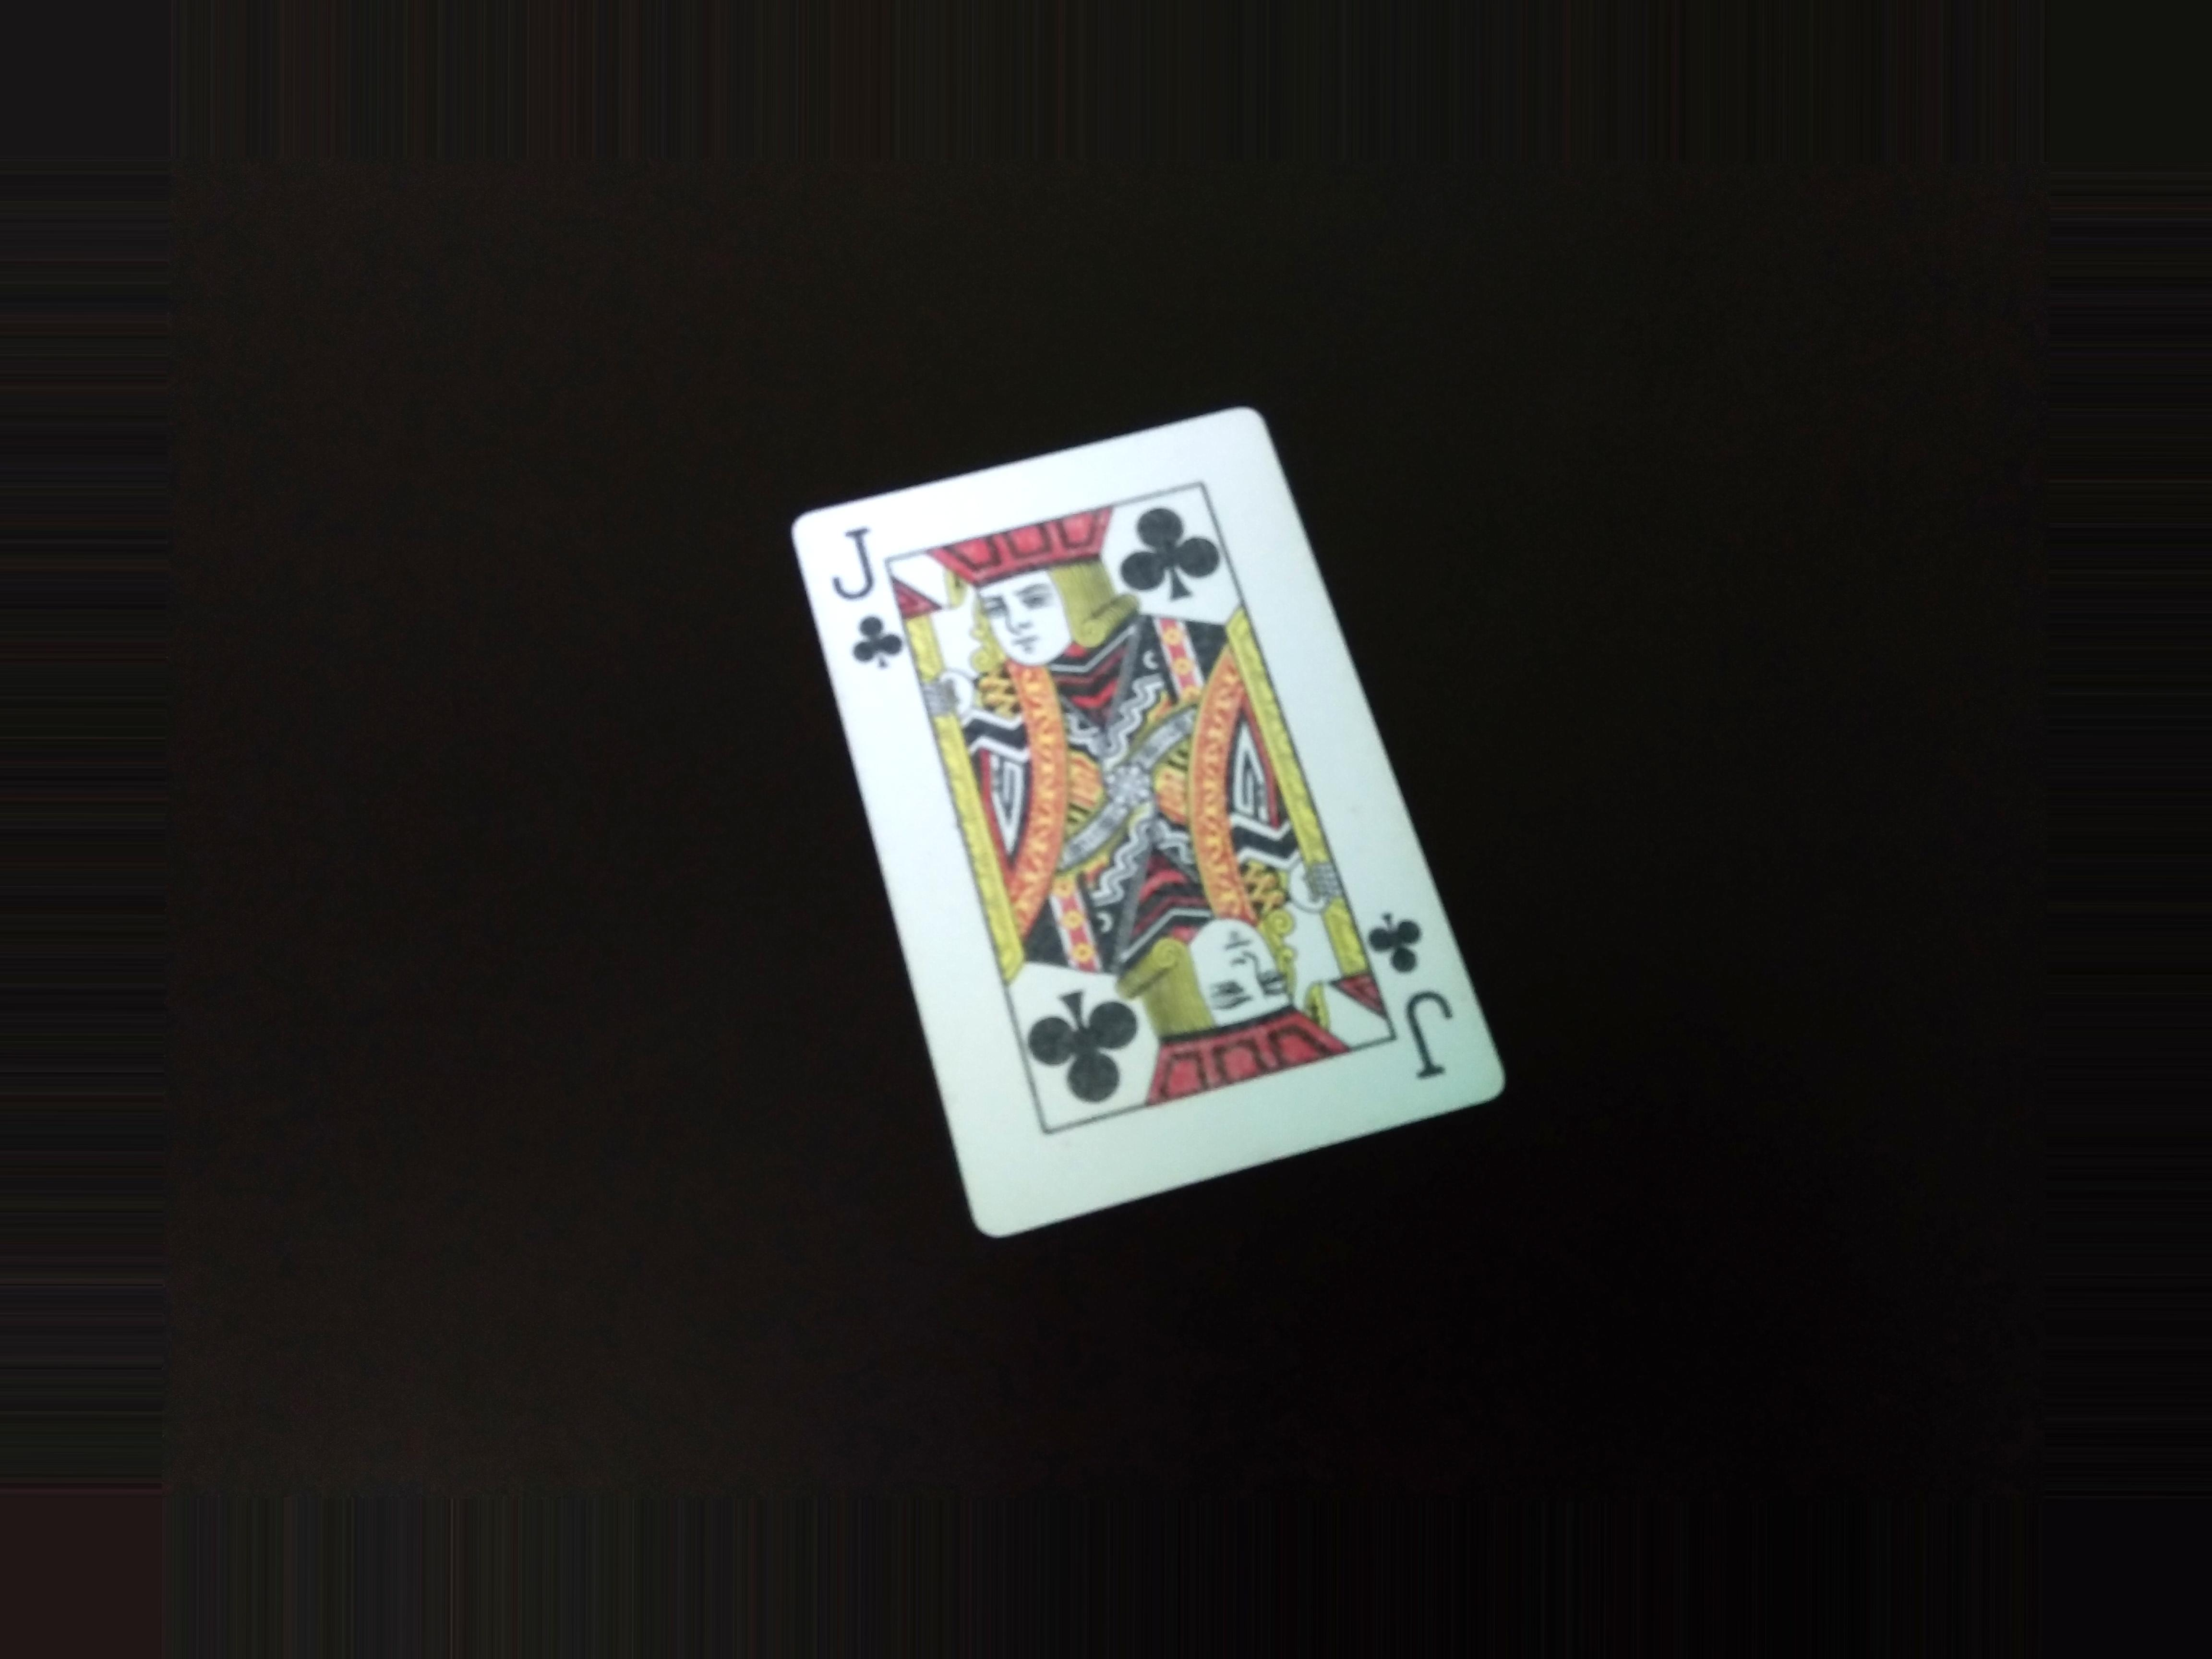JC: (1359, 899, 1454, 1091)
